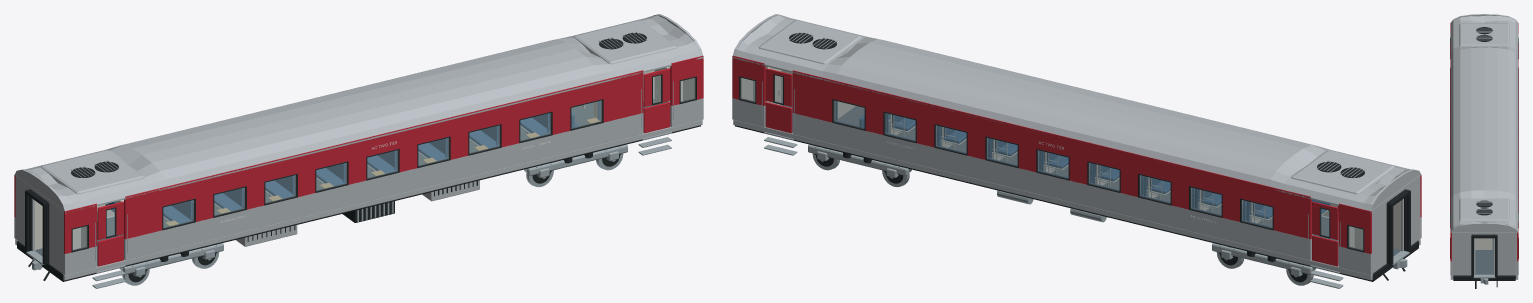
The model's file is LHB_2A.fbx.
3 views of the same model, side by side, from view 1: azimuth 30°, elevation 25°; view 2: azimuth 150°, elevation 25°; view 3: azimuth 270°, elevation 25° (orthographic). The views are drawn at different scales.
Parts seen in each view (by area): view 1: ROOF_arch, BODYSIDE_sill.001, BODYSIDE_header.001, UNDERFRAME_edge, AC_ROOF_end_package.001, AC_ROOF_end_package, UNDERFRAME_main, INTERIOR_floor, END_wall, BODYSIDE_window_pillar.011, BODYSIDE_window_pillar.002, END_wall.001 (+26 smaller); view 2: ROOF_arch, BODYSIDE_sill.004, BODYSIDE_header.004, UNDERFRAME_edge.001, AC_ROOF_end_package.001, AC_ROOF_end_package, INTERIOR_floor, UNDERFRAME_main, END_wall.001, BODYSIDE_window_pillar.025, BODYSIDE_window_pillar.016, END_wall (+23 smaller); view 3: ROOF_arch, AC_ROOF_end_package.001, AC_ROOF_end_package, END_wall.002, END_wall.003, ROOF_endcap.001, INTERIOR_floor, UNDERFRAME_main, BAY_partition.008, BODYSIDE_header.001, BODYSIDE_header.004, ROOF_endcap (+8 smaller).
Part boxes in pixels (left/top/right/bottom): ROOF_arch: left=14, top=15, right=703, bottom=213; BODYSIDE_sill.001: left=124, top=113, right=643, bottom=260; BODYSIDE_header.001: left=124, top=70, right=643, bottom=216; UNDERFRAME_edge: left=63, top=119, right=702, bottom=280; AC_ROOF_end_package.001: left=573, top=20, right=677, bottom=64; AC_ROOF_end_package: left=41, top=150, right=144, bottom=194; UNDERFRAME_main: left=17, top=125, right=700, bottom=281; INTERIOR_floor: left=35, top=99, right=654, bottom=265; END_wall: left=46, top=198, right=63, bottom=273; BODYSIDE_window_pillar.011: left=603, top=90, right=643, bottom=122; BODYSIDE_window_pillar.002: left=124, top=207, right=162, bottom=239; END_wall.001: left=15, top=175, right=34, bottom=251; ROOF_arch: left=732, top=15, right=1421, bottom=213; BODYSIDE_sill.004: left=792, top=113, right=1311, bottom=260; BODYSIDE_header.004: left=792, top=70, right=1311, bottom=216; UNDERFRAME_edge.001: left=733, top=119, right=1372, bottom=280; AC_ROOF_end_package.001: left=758, top=20, right=862, bottom=64; AC_ROOF_end_package: left=1291, top=150, right=1394, bottom=194; INTERIOR_floor: left=781, top=99, right=1400, bottom=265; UNDERFRAME_main: left=735, top=125, right=1418, bottom=281; END_wall.001: left=1372, top=198, right=1389, bottom=273; BODYSIDE_window_pillar.025: left=792, top=90, right=832, bottom=122; BODYSIDE_window_pillar.016: left=1273, top=207, right=1311, bottom=239; END_wall: left=1401, top=175, right=1420, bottom=251; ROOF_arch: left=1450, top=14, right=1518, bottom=233; AC_ROOF_end_package.001: left=1459, top=198, right=1509, bottom=222; AC_ROOF_end_package: left=1459, top=23, right=1509, bottom=47; END_wall.002: left=1452, top=232, right=1475, bottom=275; END_wall.003: left=1493, top=232, right=1516, bottom=275; ROOF_endcap.001: left=1452, top=223, right=1517, bottom=232; INTERIOR_floor: left=1475, top=238, right=1493, bottom=274; UNDERFRAME_main: left=1453, top=275, right=1515, bottom=280; BAY_partition.008: left=1475, top=238, right=1492, bottom=249; BODYSIDE_header.001: left=1450, top=43, right=1450, bottom=212; BODYSIDE_header.004: left=1518, top=43, right=1518, bottom=212; ROOF_endcap: left=1450, top=14, right=1516, bottom=23.
Size of the model in its own units: 326 by 2416 by 406.
